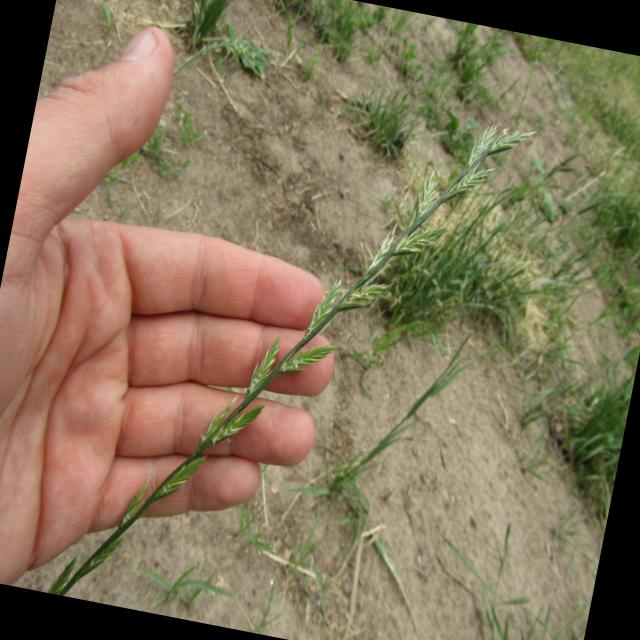Lolium: (45, 49, 544, 640)
